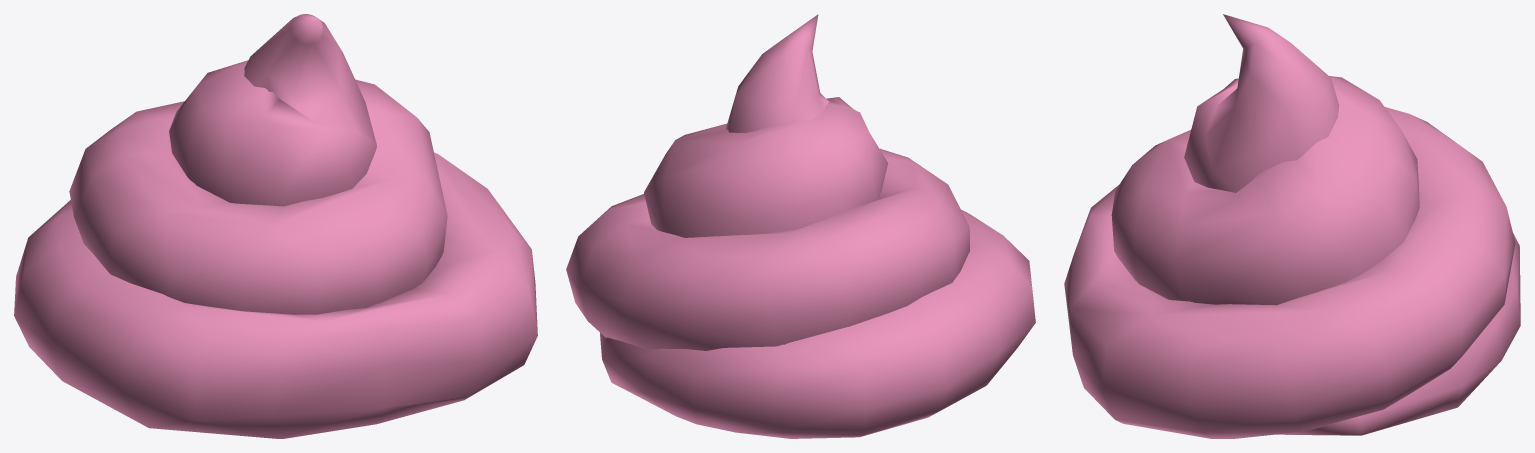
File: unchi.fbx
3 views of the same model, side by side, from view 1: azimuth 30°, elevation 25°; view 2: azimuth 150°, elevation 25°; view 3: azimuth 270°, elevation 25° (orthographic). The views are drawn at different scales.
Visible parts, largest first — view 1: Spiral.001; view 2: Spiral.001; view 3: Spiral.001.
Part boxes in pixels (x1,y1,x2,y2): Spiral.001: (14,14,537,438); Spiral.001: (566,14,1035,438); Spiral.001: (1064,14,1520,438).
Size of the model in its own units: 172 by 127 by 154.
